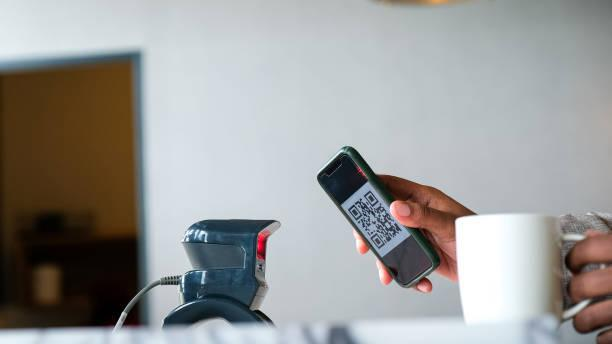Finder pattern: (369, 231, 386, 252), (363, 189, 380, 207), (347, 204, 364, 221)
